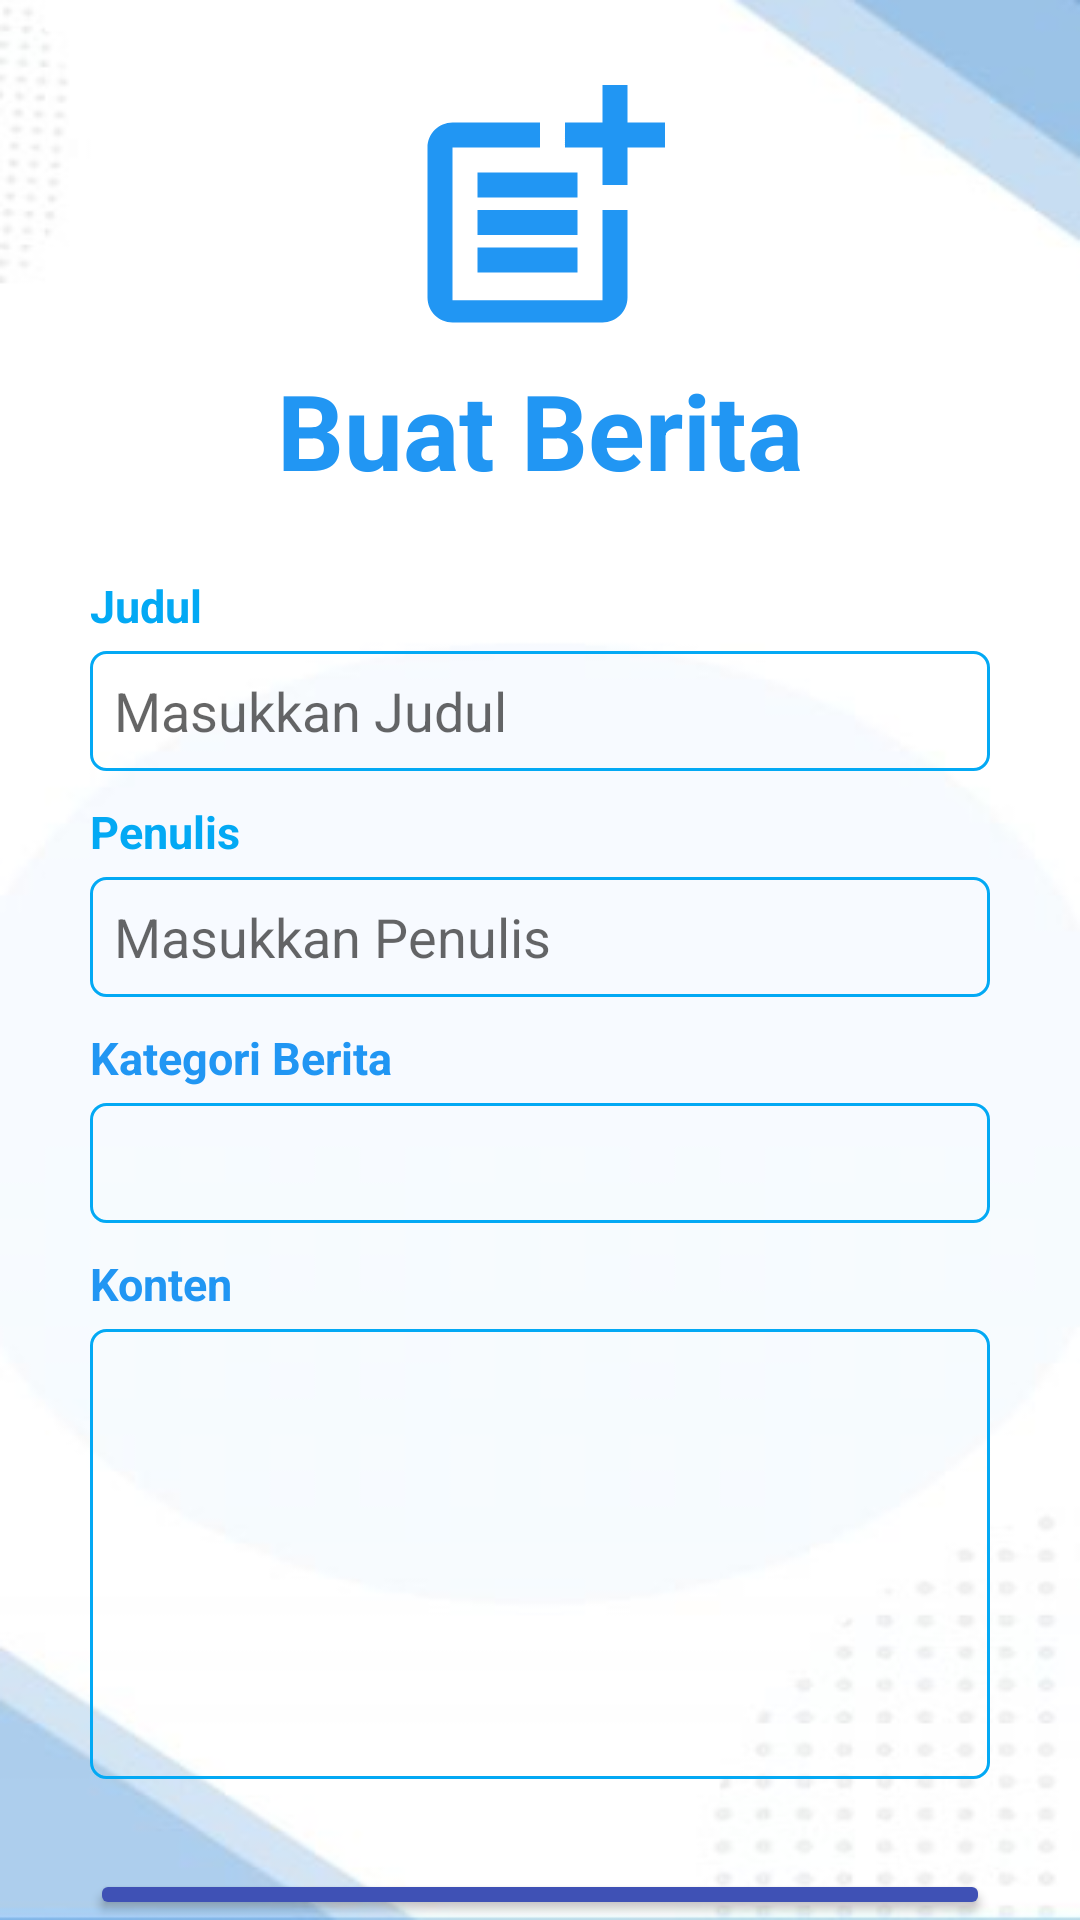

Where icons sit on this 1080*1920 app screen, as (x1, y1, x2, y2):
addnews: (427, 85, 665, 323)
